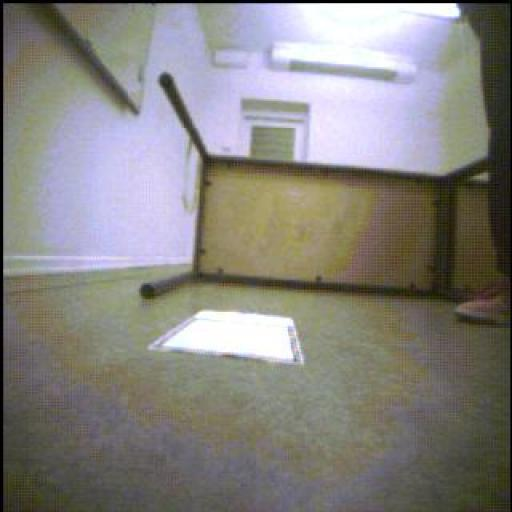Pad: (150, 311, 305, 366)
